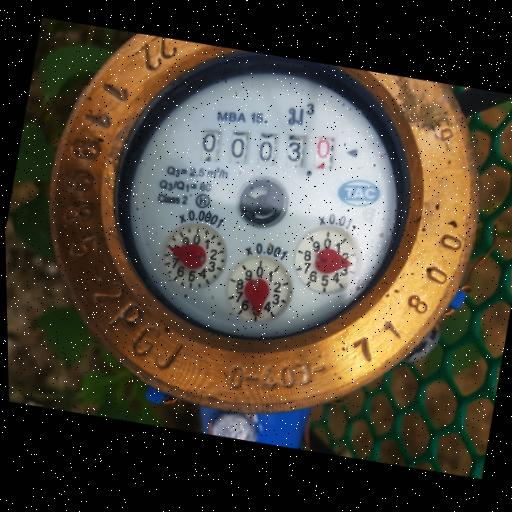0: (251, 130, 282, 169), (195, 126, 225, 165), (309, 135, 339, 173), (224, 128, 253, 166)
3: (280, 132, 309, 171)
border_water_meter_number: (193, 110, 342, 190)
